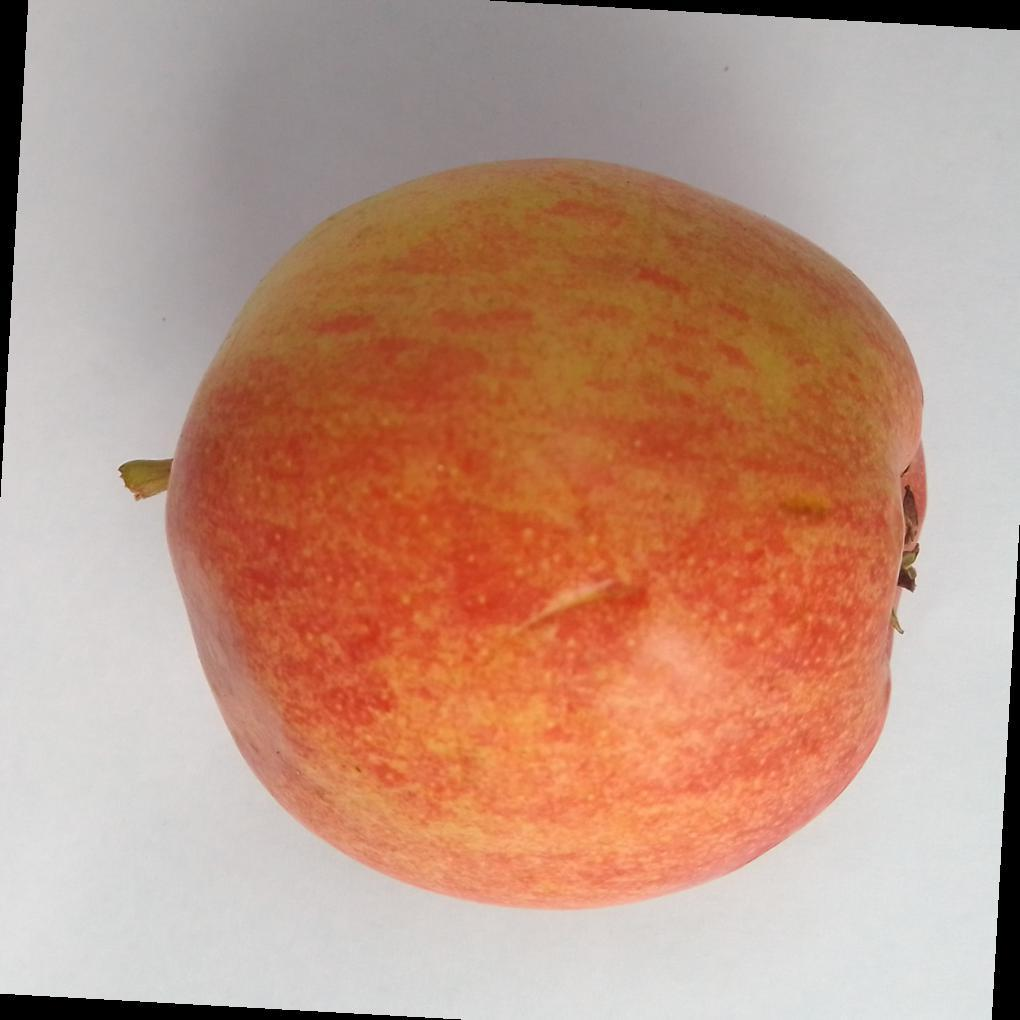FreshGuava: (164, 159, 927, 914)
